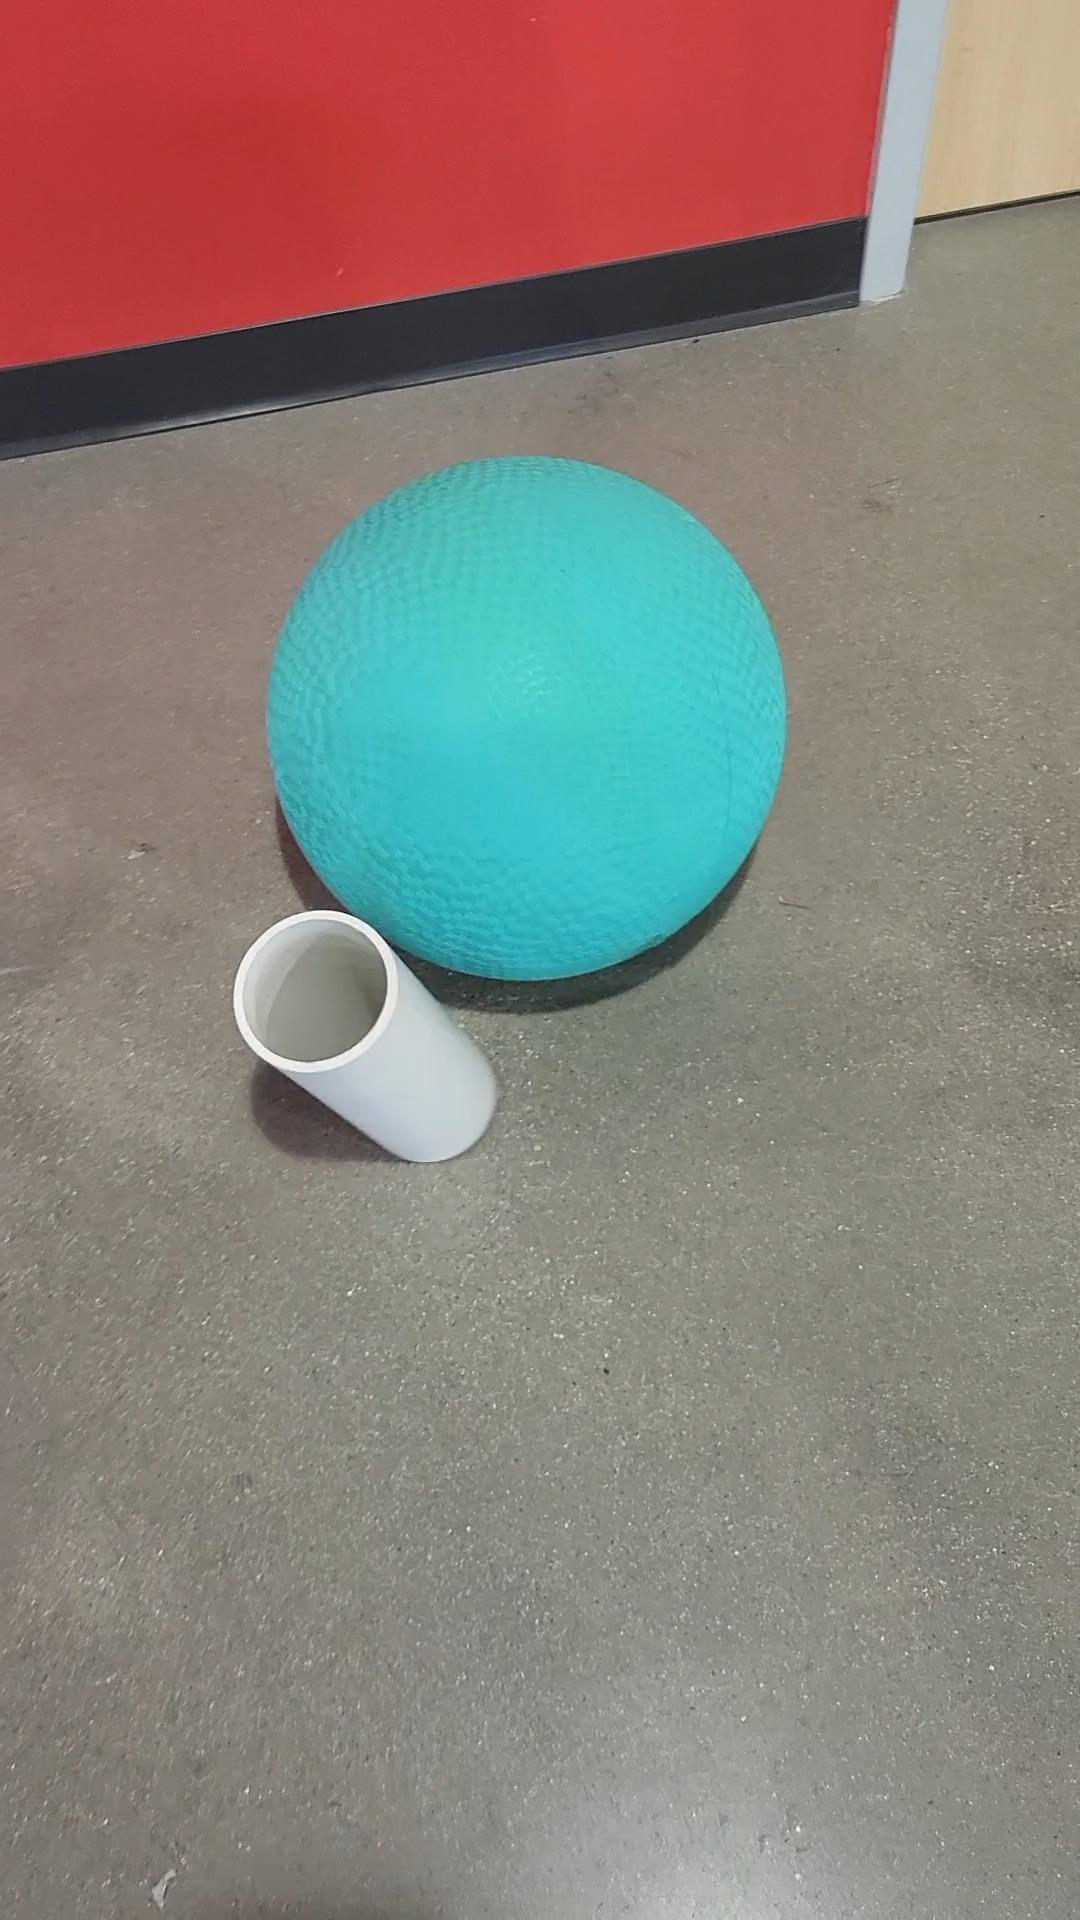algae: (272, 436, 794, 981)
coral: (222, 906, 502, 1164)
